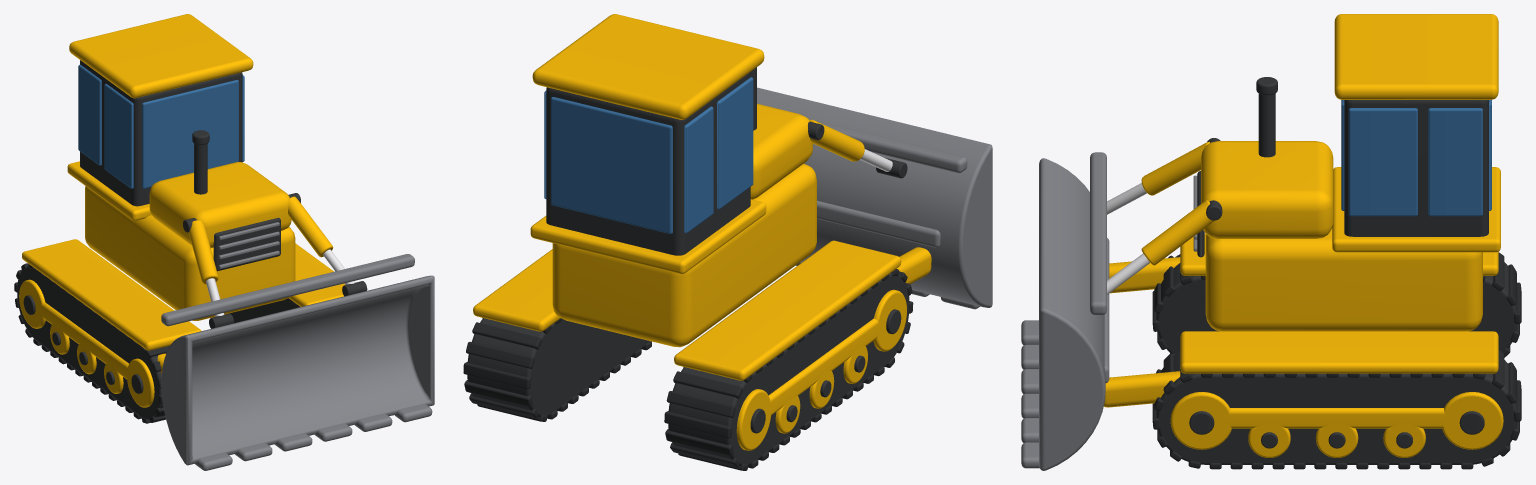
Rendered from Bulldozer.glb.
The picture shows the model from 3 angles, left to right: view 1: azimuth 30°, elevation 25°; view 2: azimuth 150°, elevation 25°; view 3: azimuth 270°, elevation 25°; orthographic projection. The views are drawn at different scales.
Parts seen in each view (by area): view 1: Bulldozer_Bulldozer_Root_Yellow, Bulldozer_Blade_SteelGrey, Bulldozer_Bulldozer_Root_DarkGrey, Bulldozer_Bulldozer_Root_Glass, Bulldozer_Blade_Yellow, Bulldozer_Bulldozer_Root_Rubber, Bulldozer_Bulldozer_Root_SteelGrey, Bulldozer_Blade_DarkGrey, Bulldozer_Blade_Chrome; view 2: Bulldozer_Bulldozer_Root_Yellow, Bulldozer_Bulldozer_Root_DarkGrey, Bulldozer_Blade_SteelGrey, Bulldozer_Bulldozer_Root_Glass, Bulldozer_Bulldozer_Root_Rubber, Bulldozer_Blade_Yellow, Bulldozer_Blade_DarkGrey; view 3: Bulldozer_Bulldozer_Root_Yellow, Bulldozer_Bulldozer_Root_DarkGrey, Bulldozer_Blade_SteelGrey, Bulldozer_Bulldozer_Root_Glass, Bulldozer_Blade_Yellow, Bulldozer_Bulldozer_Root_Rubber, Bulldozer_Blade_Chrome.
Part boxes in pixels (box(x1,y1,x2,y2)): Bulldozer_Bulldozer_Root_Yellow: box(19, 14, 344, 407); Bulldozer_Blade_SteelGrey: box(161, 254, 434, 470); Bulldozer_Bulldozer_Root_DarkGrey: box(17, 60, 297, 420); Bulldozer_Bulldozer_Root_Glass: box(78, 64, 244, 188); Bulldozer_Blade_Yellow: box(157, 196, 333, 373); Bulldozer_Bulldozer_Root_Rubber: box(14, 263, 299, 423); Bulldozer_Bulldozer_Root_SteelGrey: box(218, 222, 279, 268); Bulldozer_Blade_DarkGrey: box(183, 193, 367, 328); Bulldozer_Blade_Chrome: box(206, 249, 354, 316); Bulldozer_Bulldozer_Root_Yellow: box(473, 14, 906, 450); Bulldozer_Bulldozer_Root_DarkGrey: box(467, 67, 909, 466); Bulldozer_Blade_SteelGrey: box(757, 87, 992, 309); Bulldozer_Bulldozer_Root_Glass: box(544, 77, 753, 233); Bulldozer_Bulldozer_Root_Rubber: box(463, 269, 913, 470); Bulldozer_Blade_Yellow: box(809, 119, 931, 283); Bulldozer_Blade_DarkGrey: box(808, 121, 907, 178); Bulldozer_Bulldozer_Root_Yellow: box(1170, 14, 1503, 457); Bulldozer_Bulldozer_Root_DarkGrey: box(1156, 77, 1517, 464); Bulldozer_Blade_SteelGrey: box(1021, 152, 1109, 470); Bulldozer_Bulldozer_Root_Glass: box(1341, 99, 1491, 216); Bulldozer_Blade_Yellow: box(1103, 141, 1214, 407); Bulldozer_Bulldozer_Root_Rubber: box(1152, 252, 1521, 469); Bulldozer_Blade_Chrome: box(1107, 183, 1149, 294).
Size of the model in its own units: 1.5 by 1.63 by 2.08.
5 materials, 5 textured.
